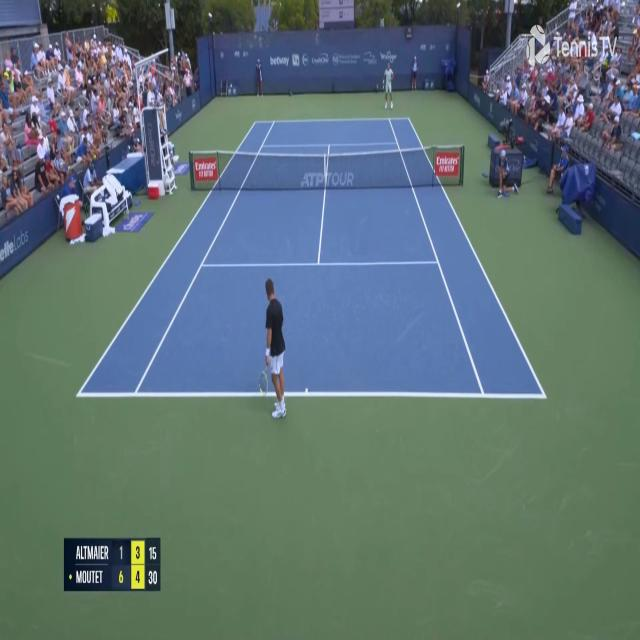tennis-player: (258, 274, 289, 422), (381, 60, 395, 109)
